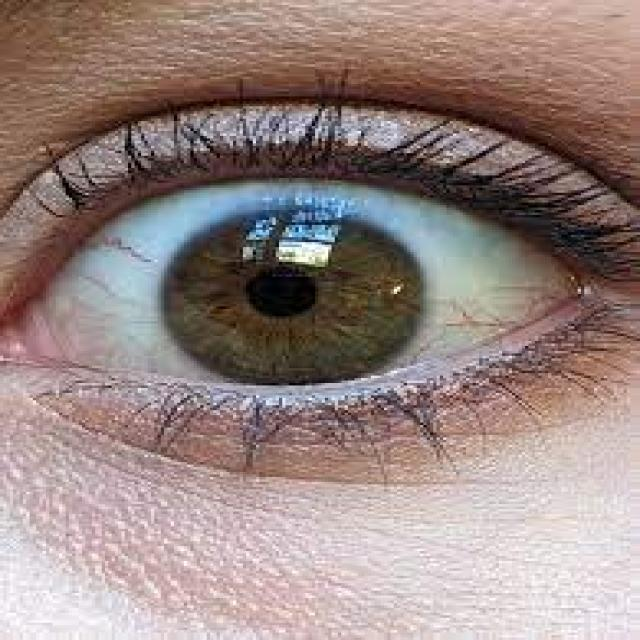Eyes-iris: (150, 188, 430, 399)
